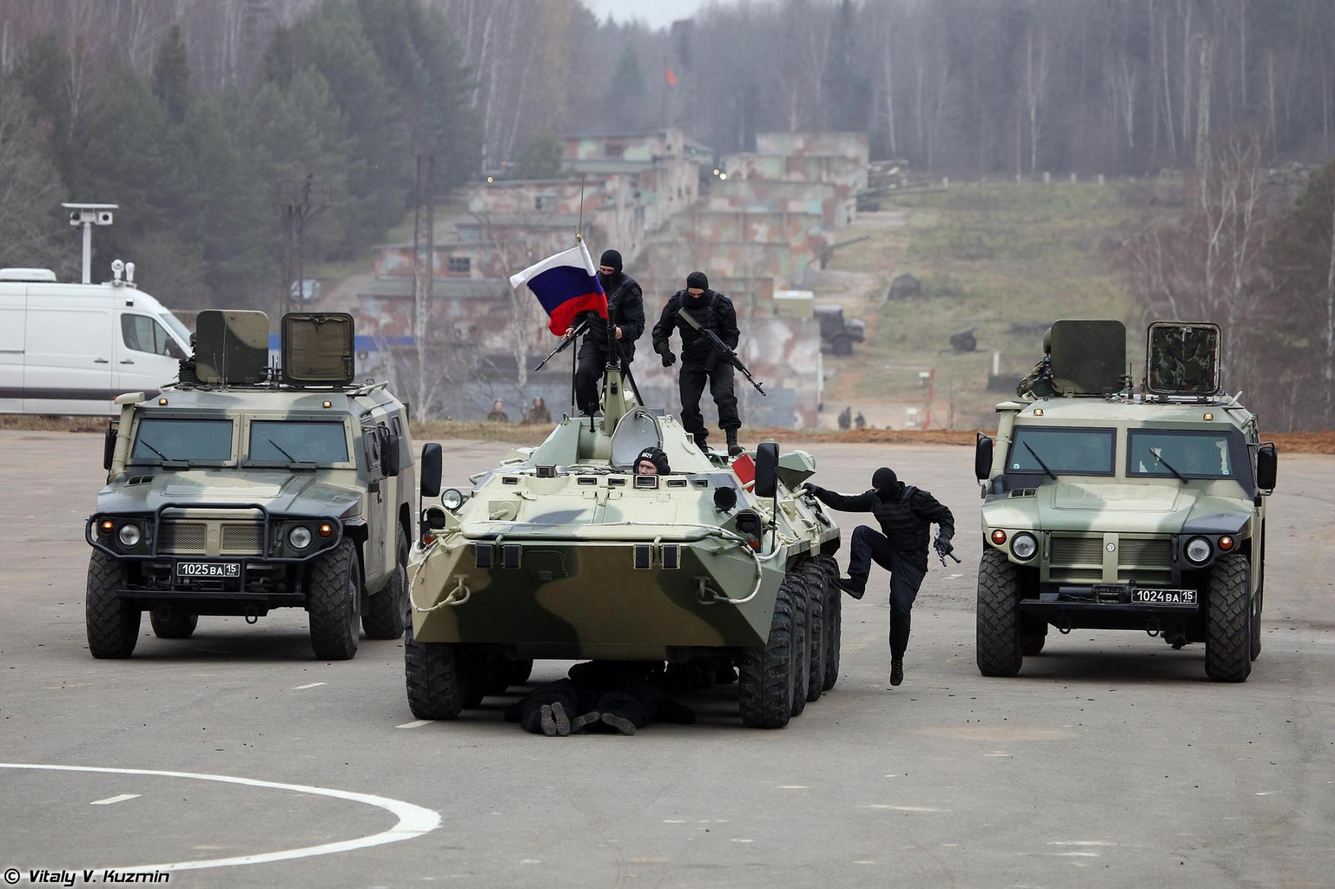armored_car: (85, 308, 416, 662), (974, 318, 1279, 683)
tank: (422, 344, 857, 774)
